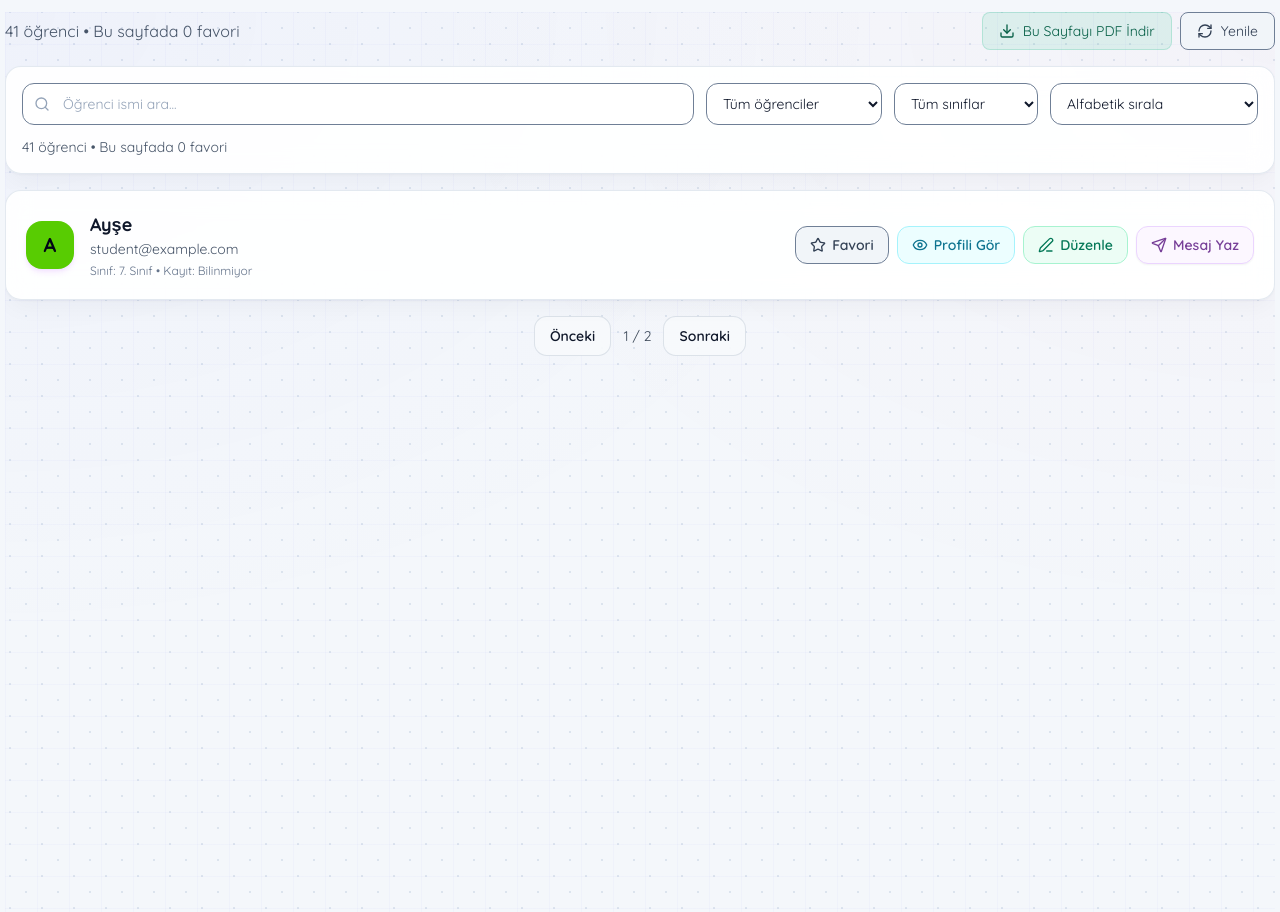
it: öğrenci aralığını sunucudan sayfalar ve toplamı gösterir
The width and height of the screenshot is (1280, 912).
Expected: the heading "Ayşe" is shown, [90,211,132,239]
Expected: the 1st text "41 öğrenci • Bu sayfada 0 favori" is shown, [5,19,240,43]
Step 1. Click the button "Sonraki" → {"x": 705, "y": 336}, box [663,316,746,356]
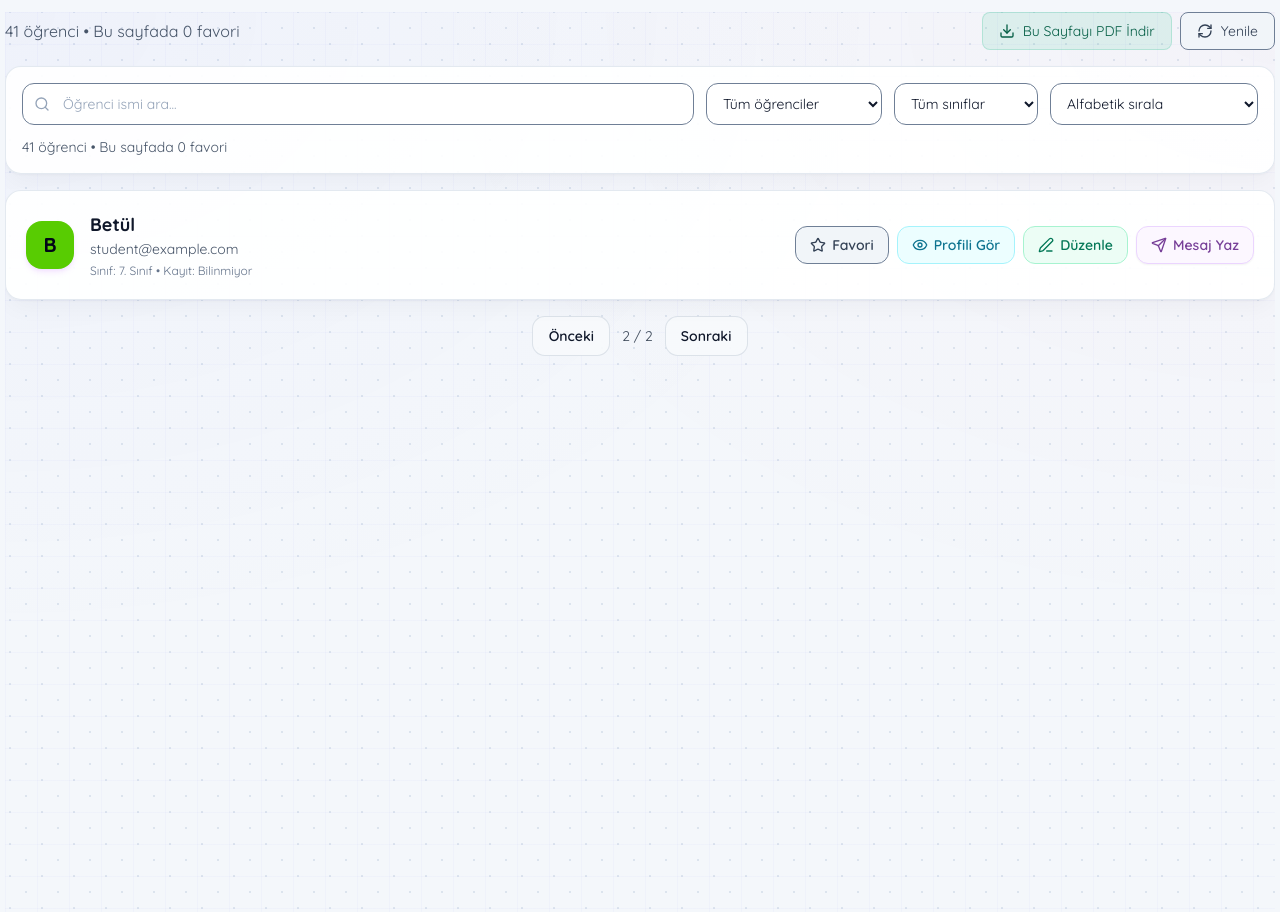
Result: the heading "Betül" is shown at [90,211,135,239]
